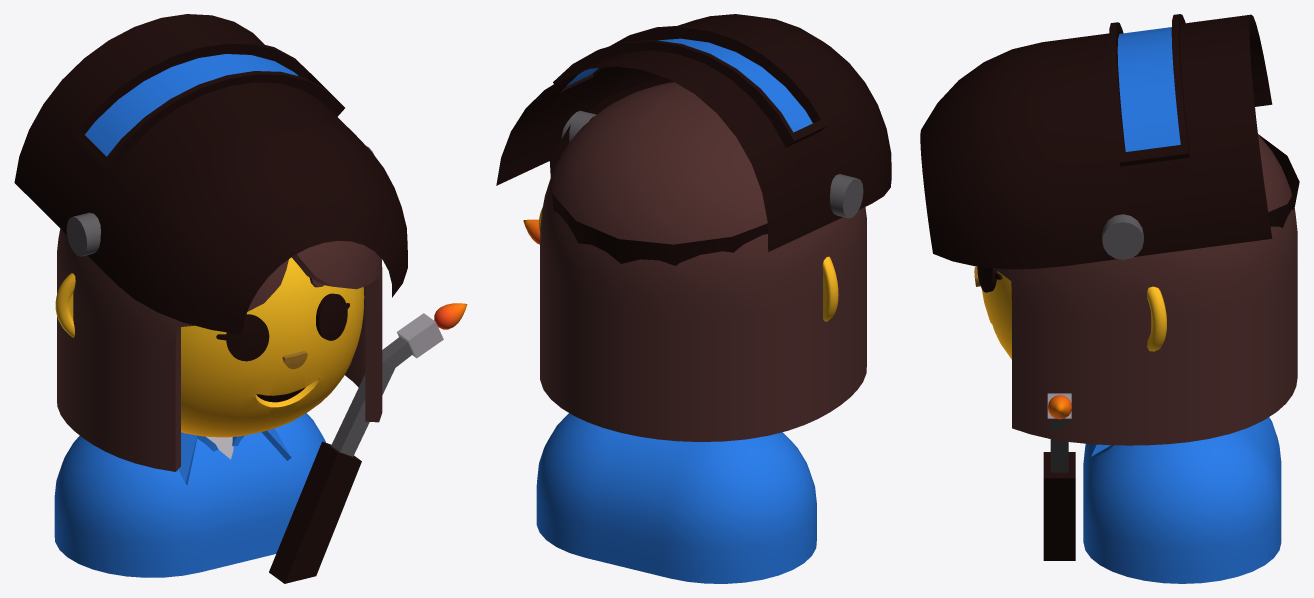
The model's file is woman_factory_worker.gltf.
3 renders of one model, left to right at view 1: azimuth 30°, elevation 25°; view 2: azimuth 150°, elevation 25°; view 3: azimuth 270°, elevation 25°, orthographic.
Visible parts, largest first — view 1: Sphere.068, Sphere.067, Roundcube.107, Roundcube.106, Cube.1325, Circle.647, Circle.651, Plane.052, Cylinder.093, Sphere.069; view 2: Roundcube.107, Sphere.068, Sphere.067, Circle.650, Circle.651, Cylinder.093; view 3: Sphere.068, Roundcube.107, Sphere.067, Cube.1325, Circle.651, Roundcube.106, Circle.650, Cylinder.093.
Boxes of the visible parts, x1,y1,x2,y2 form: Sphere.068: (14, 14, 407, 334); Sphere.067: (54, 413, 325, 577); Roundcube.107: (57, 229, 382, 471); Roundcube.106: (181, 257, 364, 437); Cube.1325: (269, 313, 443, 583); Circle.647: (226, 293, 347, 361); Circle.651: (66, 146, 373, 256); Plane.052: (178, 428, 291, 485); Cylinder.093: (55, 273, 75, 337); Sphere.069: (434, 303, 467, 329); Roundcube.107: (540, 82, 866, 441); Sphere.068: (496, 14, 891, 251); Sphere.067: (536, 413, 816, 583); Circle.650: (549, 76, 767, 265); Circle.651: (561, 110, 863, 218); Cylinder.093: (538, 208, 838, 321); Sphere.068: (920, 14, 1272, 269); Roundcube.107: (995, 134, 1297, 445); Sphere.067: (1083, 417, 1281, 583); Cube.1325: (1043, 393, 1075, 560); Circle.651: (1102, 214, 1143, 259); Roundcube.106: (982, 271, 1011, 359); Circle.650: (1258, 134, 1299, 228); Cylinder.093: (1146, 286, 1166, 351).
Bounding box in the file's own units: 2.05 × 2.69 × 1.83.
9 materials, 3 textured.
